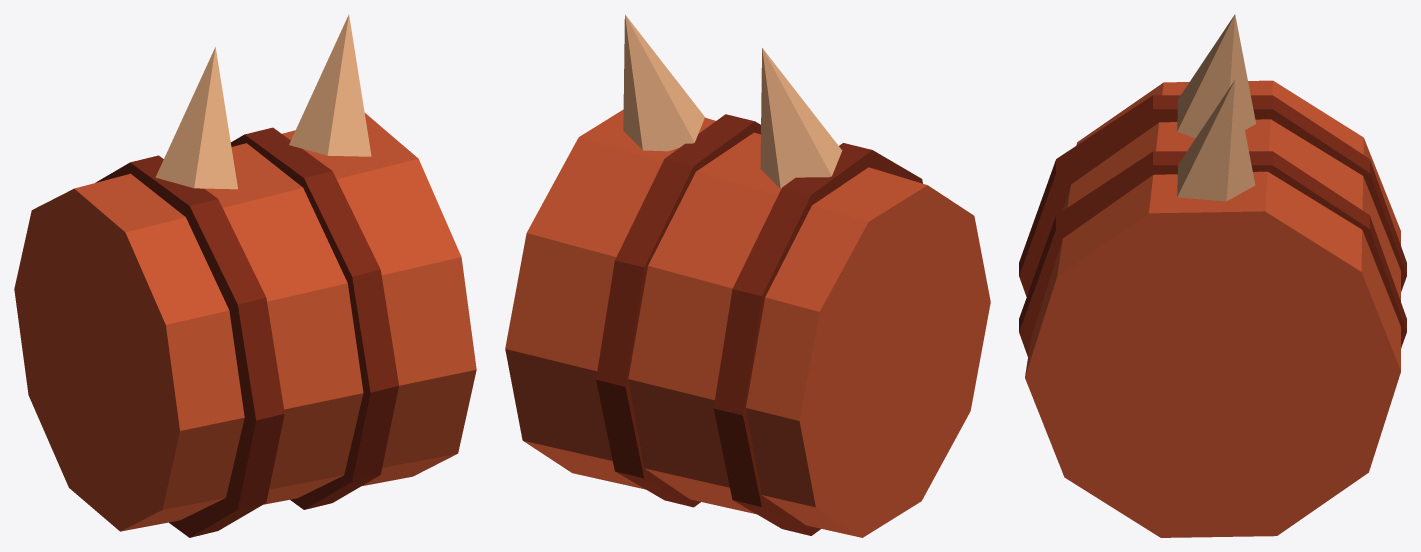
The model's file is clawfolk_arm_l.glb.
The picture shows the model from 3 angles, left to right: view 1: azimuth 30°, elevation 25°; view 2: azimuth 150°, elevation 25°; view 3: azimuth 270°, elevation 25°; orthographic projection. The views are drawn at different scales.
Parts seen in each view (by area): view 1: clawfolk_arm_l; view 2: clawfolk_arm_l; view 3: clawfolk_arm_l.
Boxes of the visible parts, left/top/right/bottom form: clawfolk_arm_l: left=14, top=14, right=476, bottom=537; clawfolk_arm_l: left=505, top=14, right=990, bottom=537; clawfolk_arm_l: left=1019, top=14, right=1406, bottom=537.
Bounding box in the file's own units: 0.311 × 0.4464 × 0.35.
